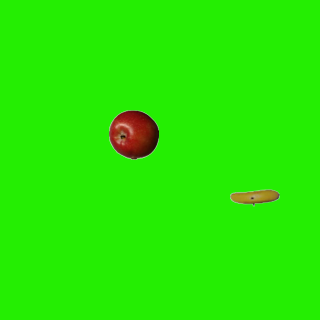Apple Braeburn: (108, 109, 158, 159)
Banana: (229, 172, 279, 222)
